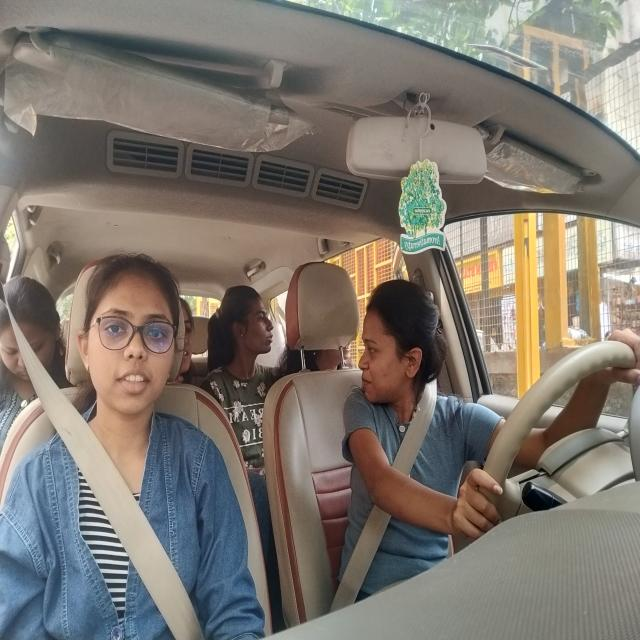LeftRight: (352, 277, 443, 420)
person: (79, 253, 188, 422), (0, 276, 61, 389), (211, 285, 277, 362), (180, 295, 201, 379), (320, 344, 353, 367)
